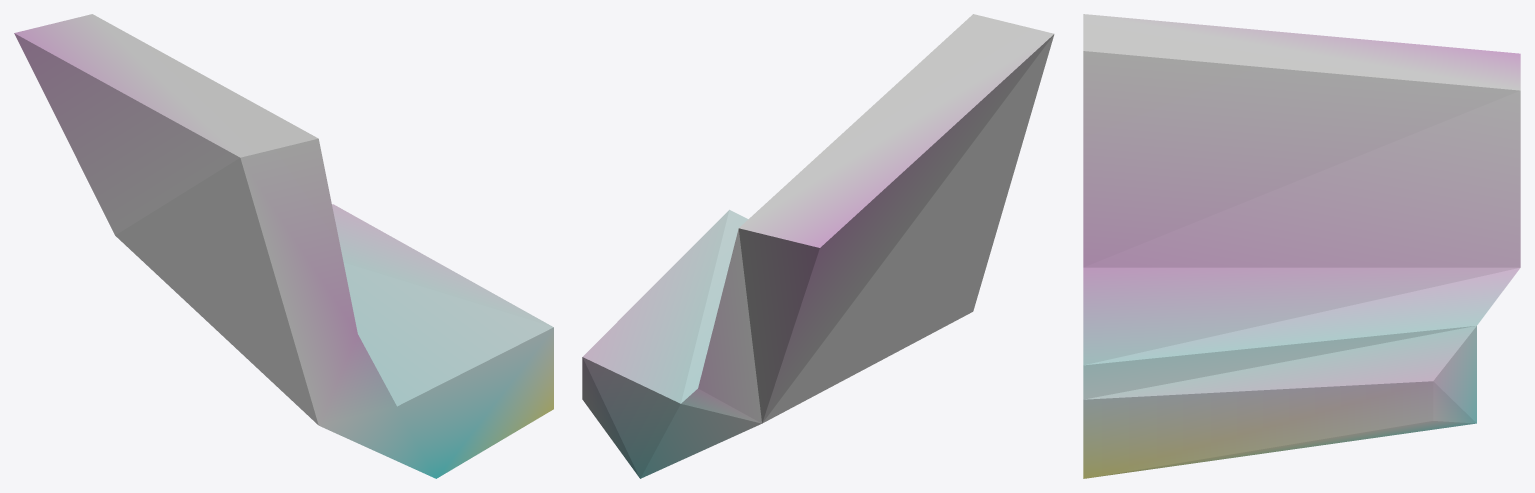
The picture shows the model from 3 angles, left to right: view 1: azimuth 30°, elevation 25°; view 2: azimuth 150°, elevation 25°; view 3: azimuth 270°, elevation 25°; orthographic projection. The views are drawn at different scales.
Parts seen in each view (by area): view 1: model_112D; view 2: model_112D; view 3: model_112D.
Boxes of the visible parts, x1,y1,x2,y2 form: model_112D: (14,14,553,478); model_112D: (582,14,1054,478); model_112D: (1083,14,1520,478).
Size of the model in its own units: 8 by 9 by 10.
